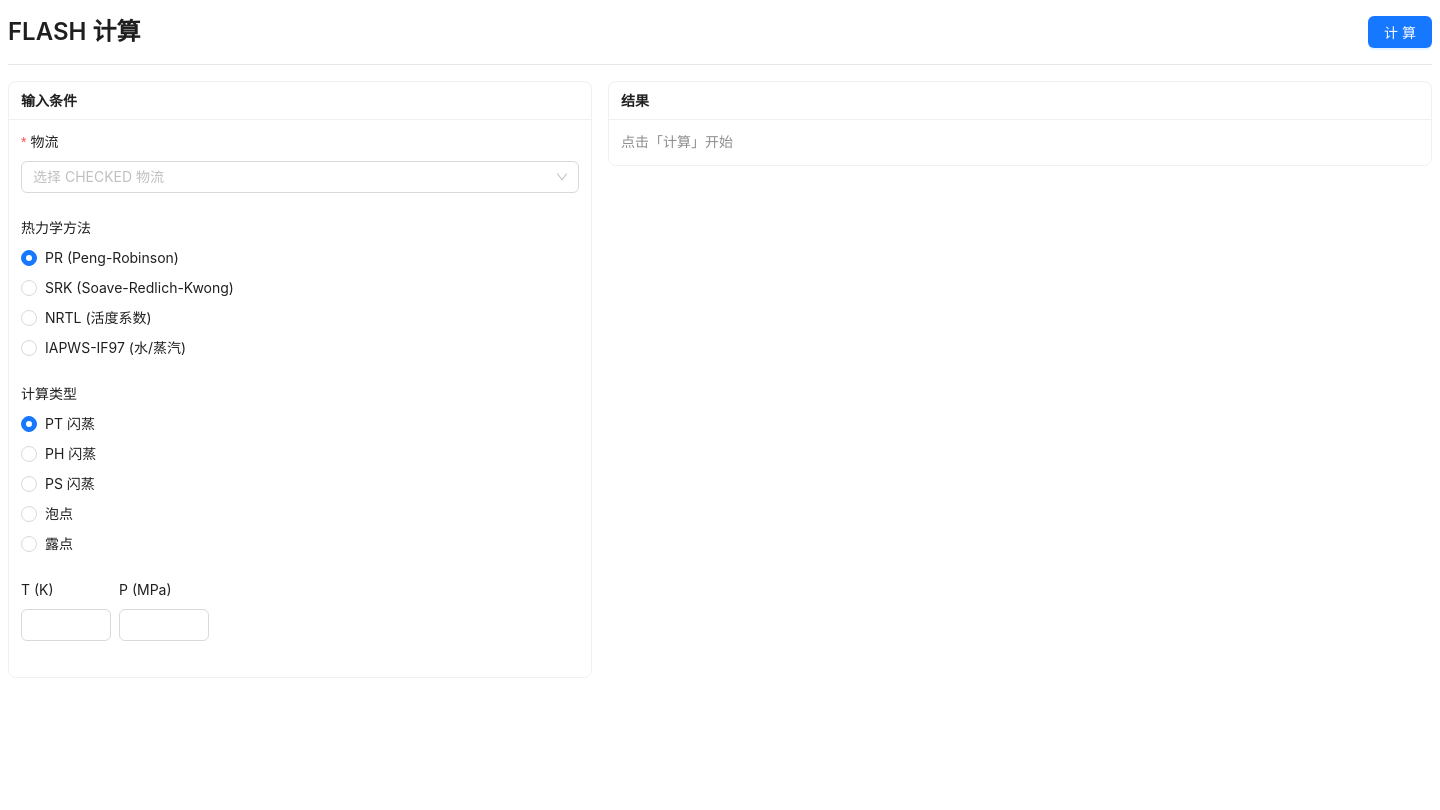
Test: FlashComputePage — 错误路径 (P45-3-4) › 未选物流 → 点计算 → 显示「请选择物流」
Click the button with test id "flash-calculate". click: (1400,32)
box: 1368,16 -> 1432,48
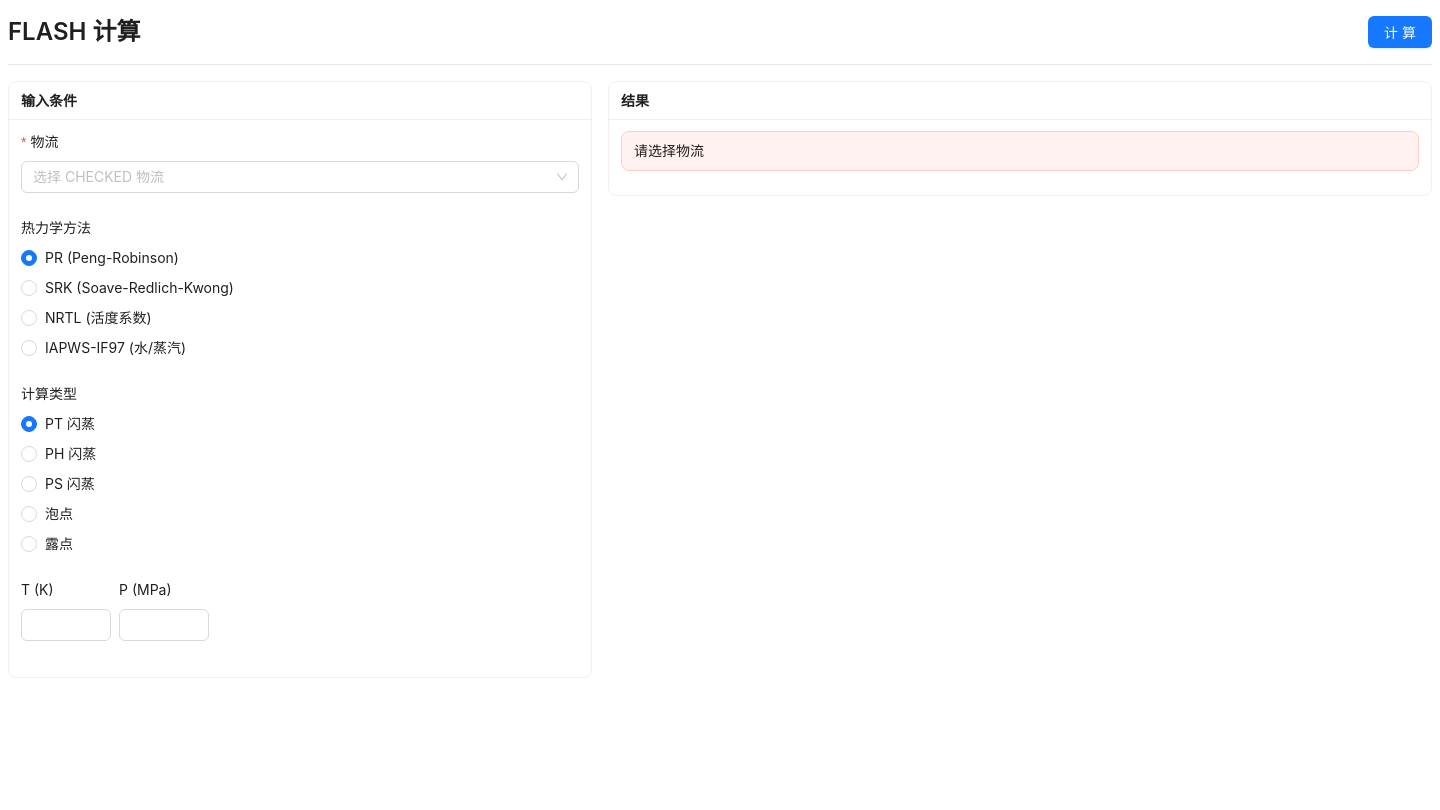
Result: the message "请选择物流" is shown at 621,131 -> 1419,171
Result: the message with test id "flash-error" reads "请选择物流" at 634,142 -> 704,159
